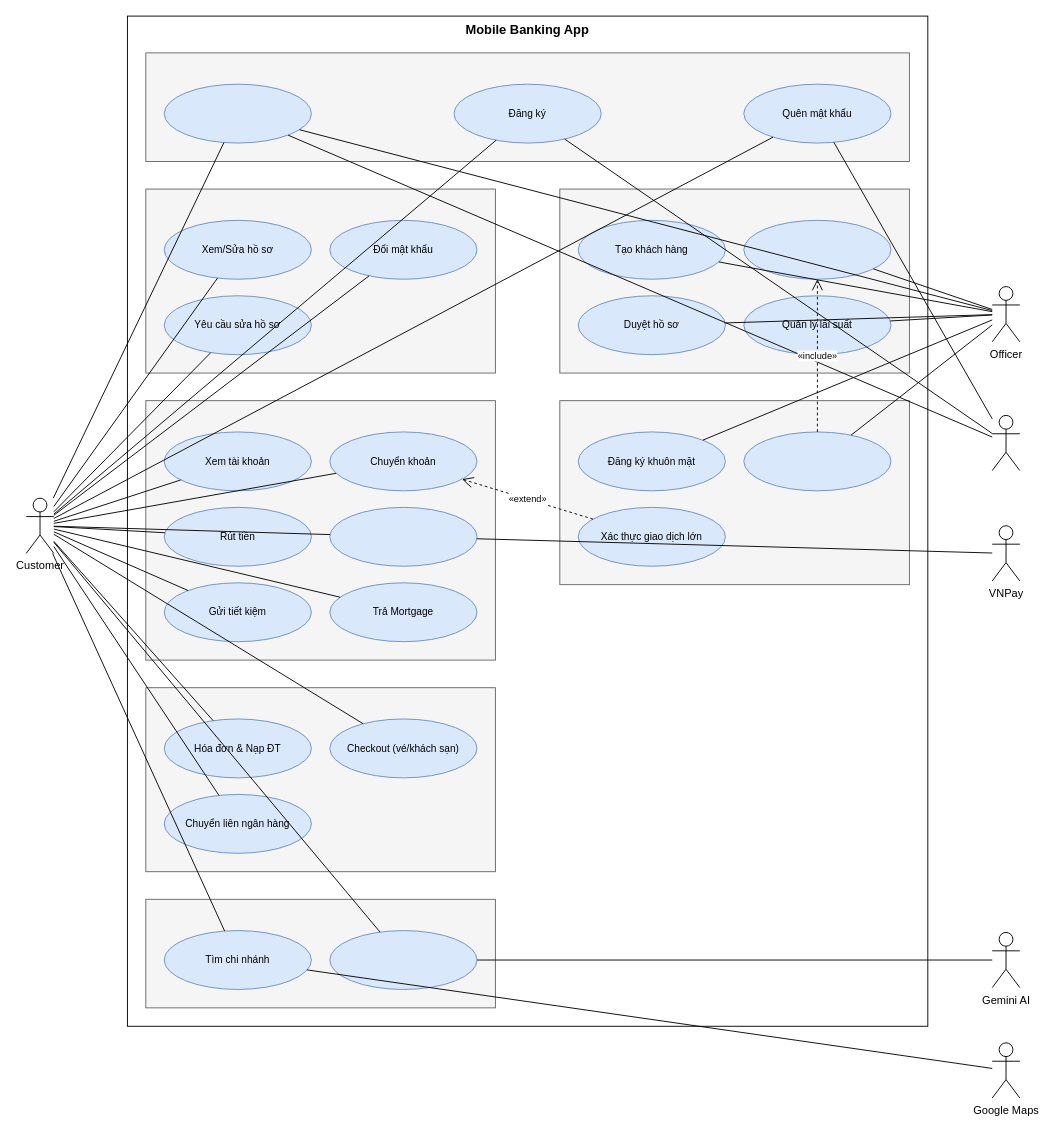
Image size: 1055x1133. Some labels were removed from this diagram. Each missing label, with the box of its shape:
Authentication: (145, 52, 909, 161)
Banking Core: (145, 400, 495, 660)
Chatbot AI: (329, 930, 477, 989)
Customer Profile: (145, 188, 495, 373)
eKYC: (559, 400, 909, 585)
Firebase Auth: (991, 414, 1020, 471)
Map & AI: (145, 898, 495, 1008)
Mở tài khoản: (743, 219, 891, 279)
Nạp VNPay: (329, 506, 477, 566)
Officer Management: (559, 188, 909, 373)
Utilities: (145, 687, 495, 872)
Xác minh CCCD: (743, 431, 891, 491)
Đăng nhập: (163, 83, 311, 143)
